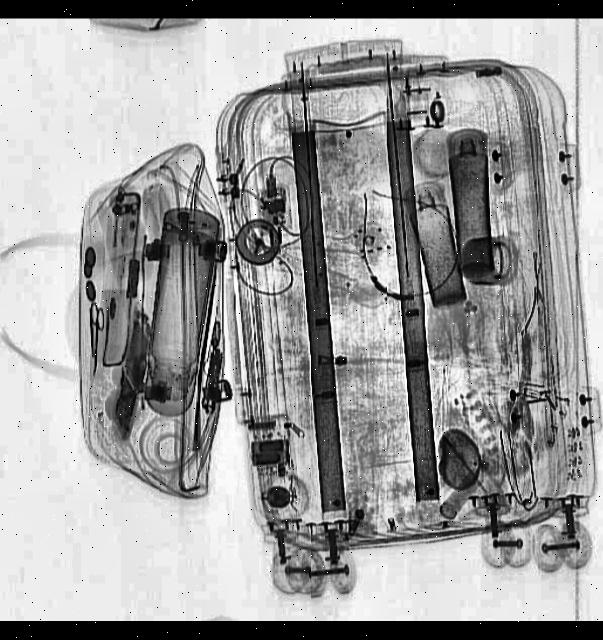Scissors: (88, 300, 108, 376)
